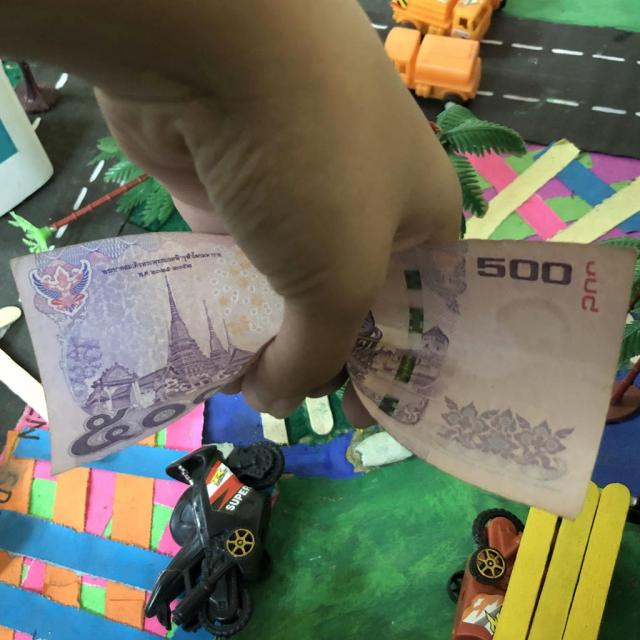THAI500: (346, 240, 635, 518), (11, 234, 281, 472)
